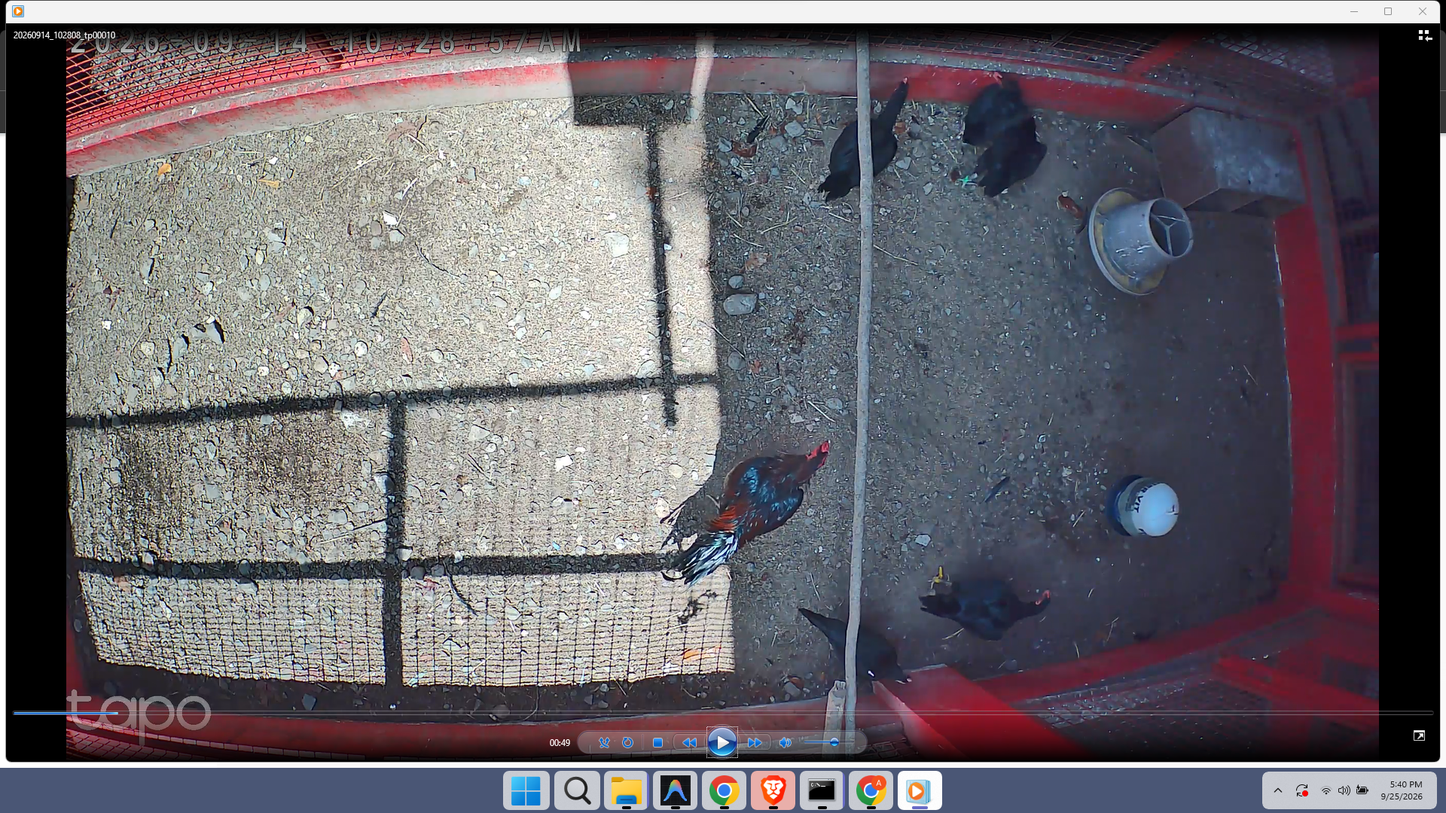Chicken: (816, 73, 911, 207), (920, 561, 1066, 647), (800, 605, 920, 697), (954, 120, 1050, 198), (958, 71, 1030, 146)
Drinker: (1106, 474, 1185, 540)
Feeder: (1085, 186, 1197, 297)
Rooster: (661, 433, 835, 589)
